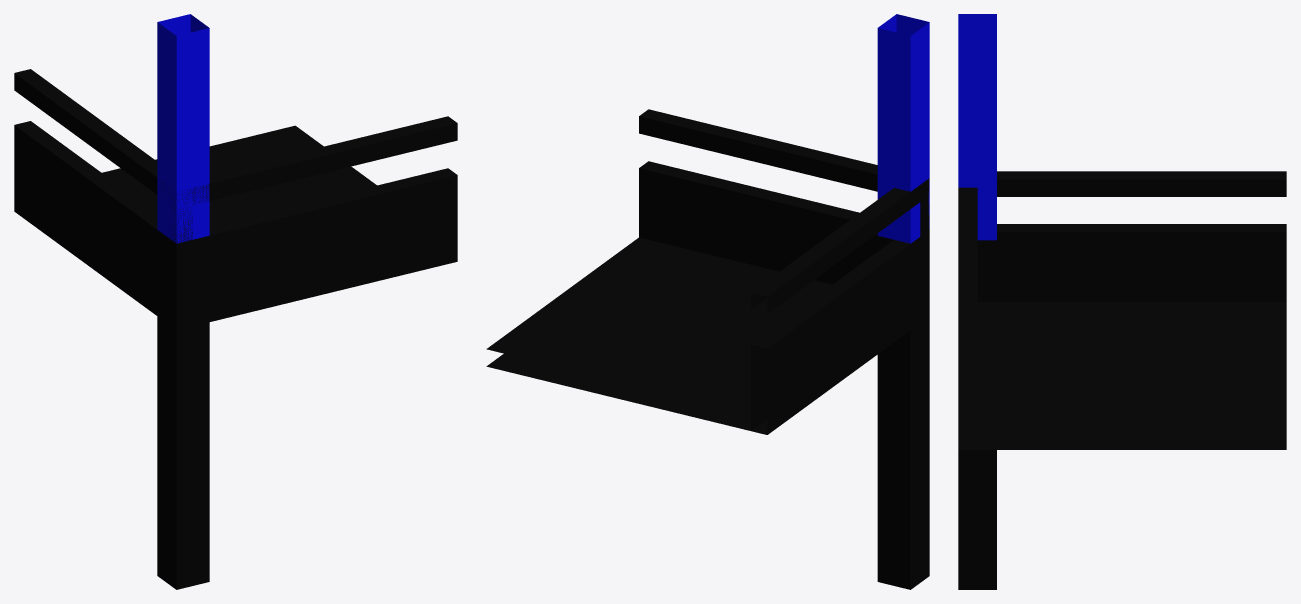
File: BigStrut_P_E_E_E_E_E_E_E_BigStrut.fbx
The picture shows the model from 3 angles, left to right: view 1: azimuth 30°, elevation 25°; view 2: azimuth 150°, elevation 25°; view 3: azimuth 270°, elevation 25°; orthographic projection.
Visible parts, largest first — view 1: BigStrut_P_E_E_E_E_E_E_E_BigStrut; view 2: BigStrut_P_E_E_E_E_E_E_E_BigStrut; view 3: BigStrut_P_E_E_E_E_E_E_E_BigStrut.
Part boxes in pixels (x1,y1,x2,y2): BigStrut_P_E_E_E_E_E_E_E_BigStrut: (14,14,457,589); BigStrut_P_E_E_E_E_E_E_E_BigStrut: (486,14,929,589); BigStrut_P_E_E_E_E_E_E_E_BigStrut: (958,14,1286,589).
Size of the model in its own units: 53.12 by 100 by 53.12.
